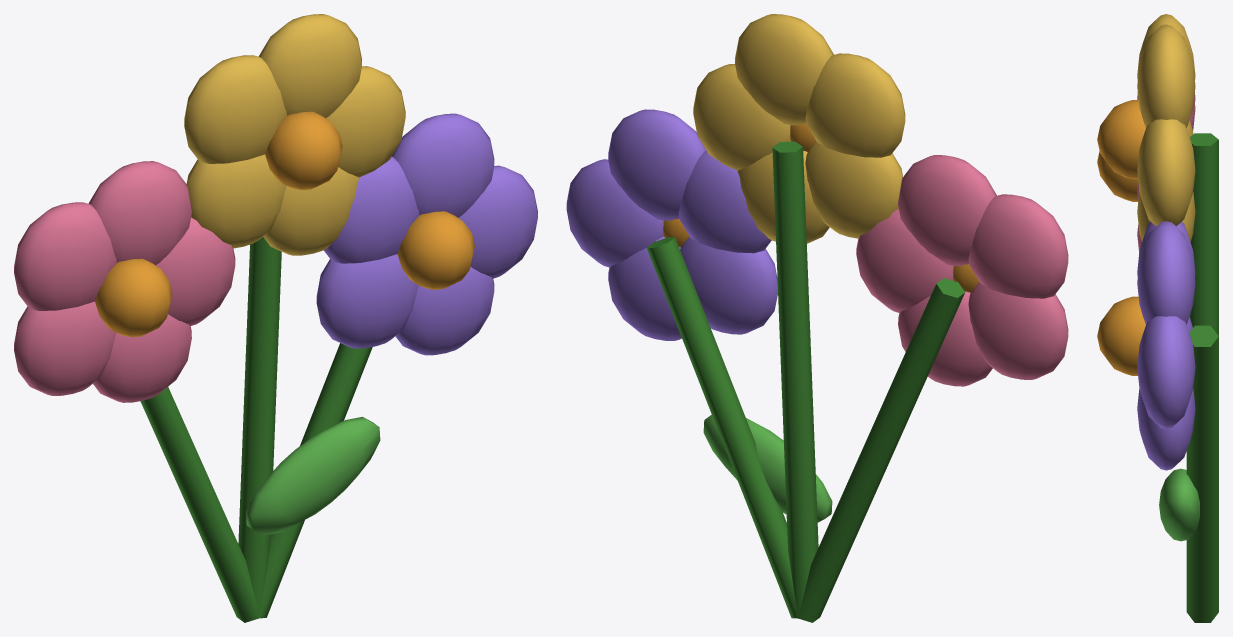
The model's file is mat_flower.glb.
3 renders of one model, left to right at view 1: azimuth 30°, elevation 25°; view 2: azimuth 150°, elevation 25°; view 3: azimuth 270°, elevation 25°, orthographic. The views are drawn at different scales.
Parts seen in each view (by area): view 1: _cyl; view 2: _cyl; view 3: _cyl.
Part boxes in pixels (x1=…): _cyl: x1=14, y1=14, x2=537, y2=622; _cyl: x1=566, y1=14, x2=1068, y2=622; _cyl: x1=1097, y1=14, x2=1218, y2=622.
Size of the model in its own units: 0.8309 by 0.918 by 0.167.
